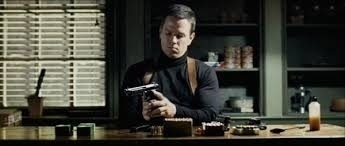pistol: (123, 81, 165, 105)
